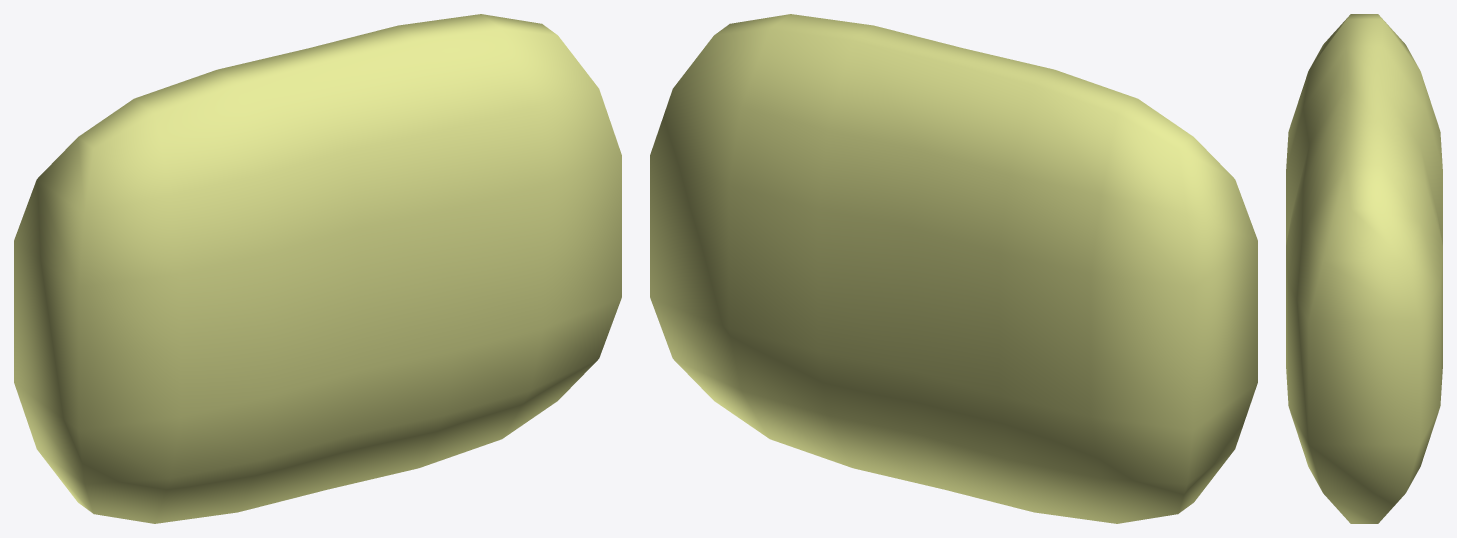
Rendered from PuffyPillow.fbx.
3 renders of one model, left to right at view 1: azimuth 30°, elevation 25°; view 2: azimuth 150°, elevation 25°; view 3: azimuth 270°, elevation 25°, orthographic. The views are drawn at different scales.
Visible parts, largest first — view 1: Pillow; view 2: Pillow; view 3: Pillow.
Boxes of the visible parts, bbox=[...] form: Pillow: bbox=[14, 14, 621, 523]; Pillow: bbox=[650, 14, 1257, 523]; Pillow: bbox=[1286, 14, 1442, 523].
Size of the model in its own units: 2 by 1.5 by 0.5802.
